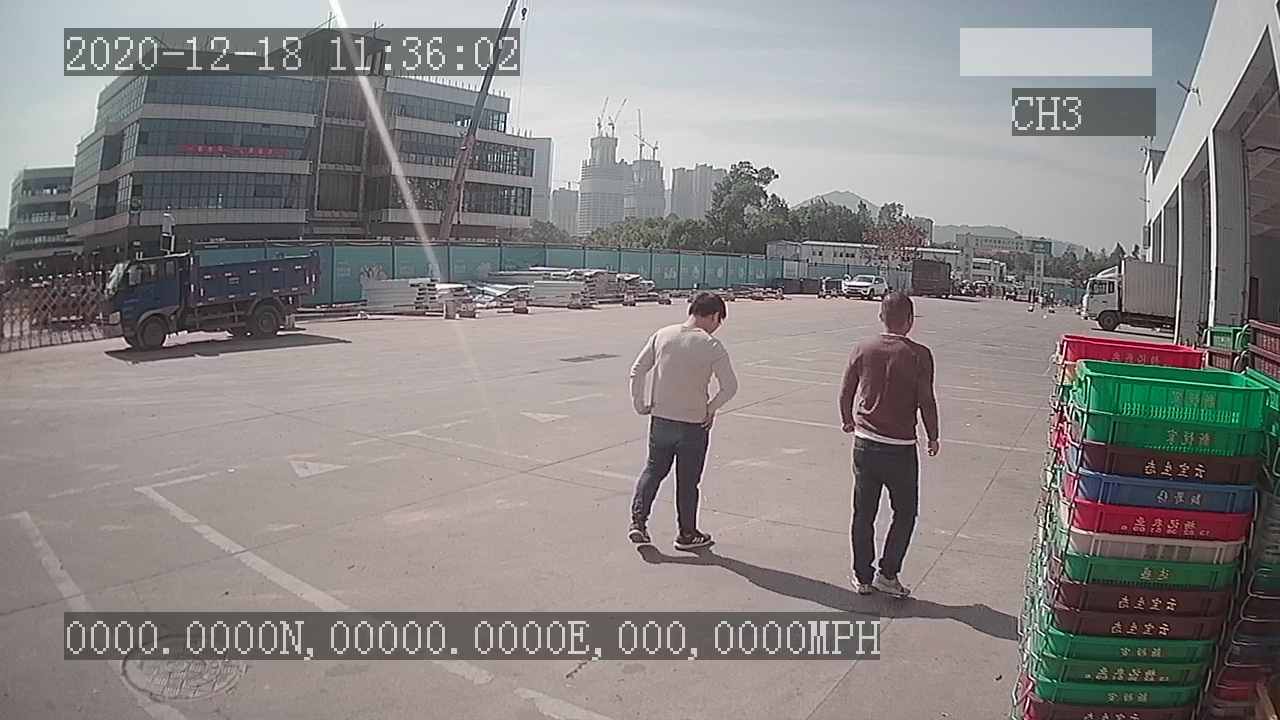person: (624, 290, 739, 557), (839, 291, 939, 597)
